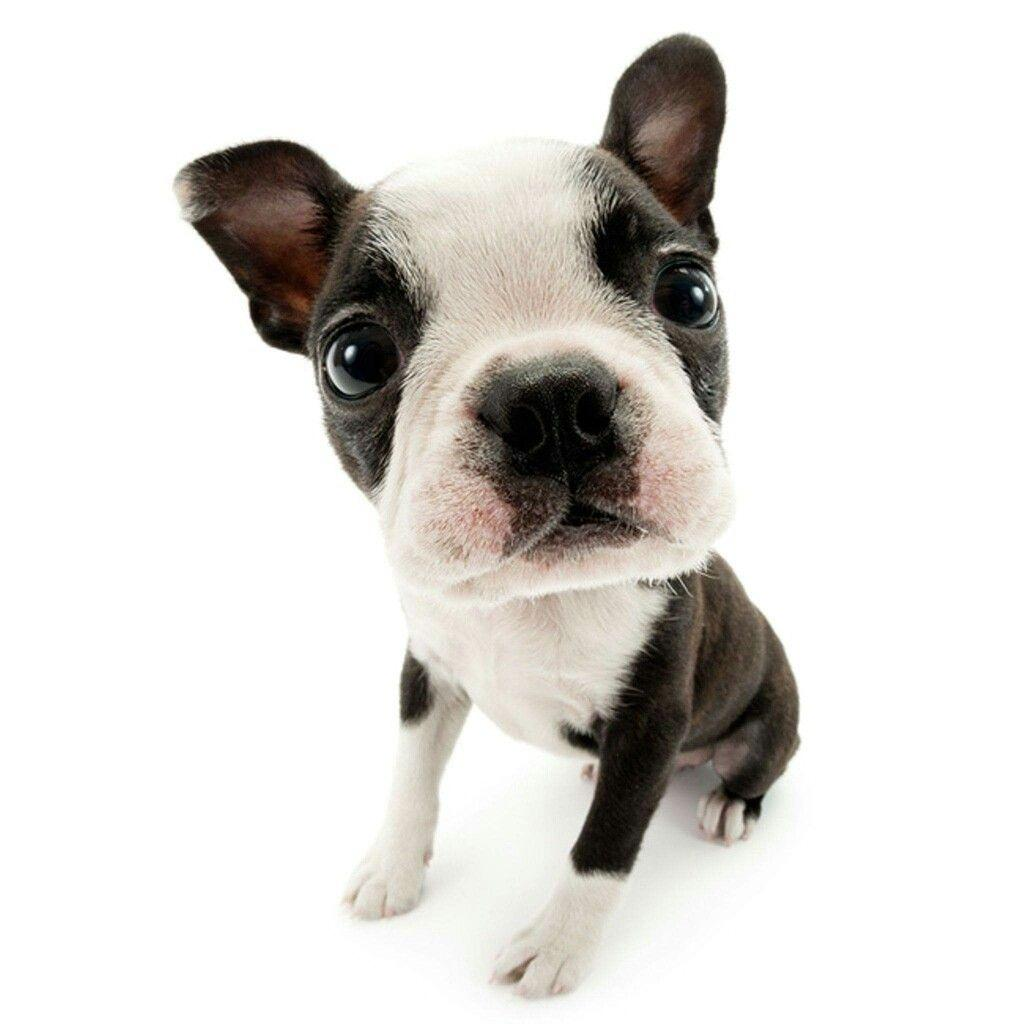puppy-dog: (168, 25, 818, 999)
